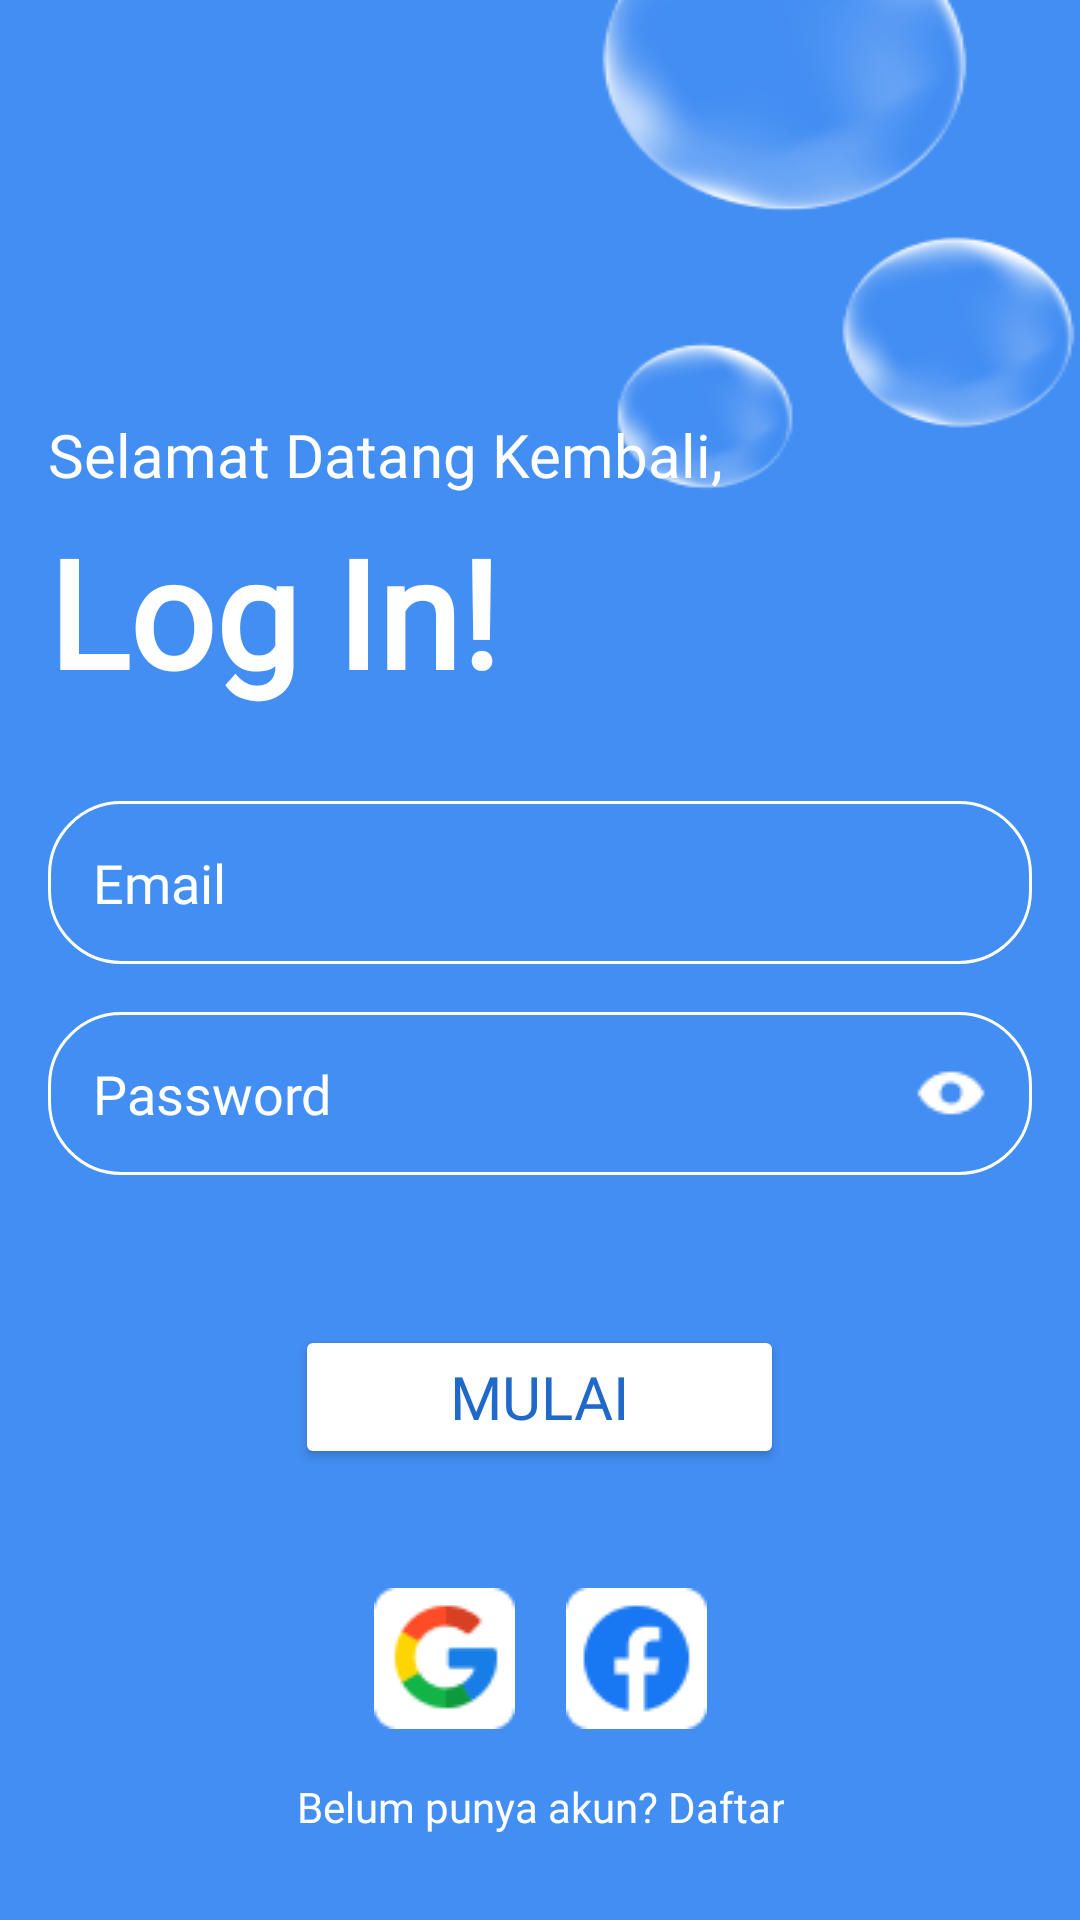

Where icons sit on this 1080 x 1920 app screen, as region(x1, y1, x2, y2):
passtogel: region(917, 1071, 985, 1115)
